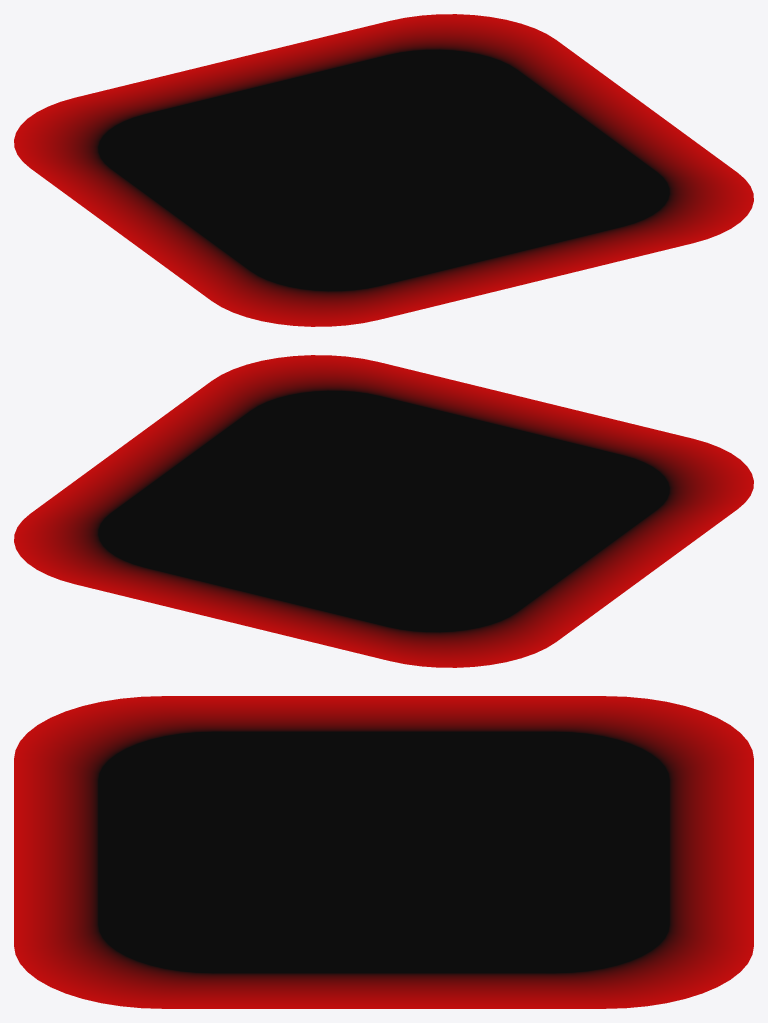
Rendered from SM_Onboarding_Scene_01.fbx.
The picture shows the model from 3 angles, top to bottom: view 1: azimuth 30°, elevation 25°; view 2: azimuth 150°, elevation 25°; view 3: azimuth 270°, elevation 25°; orthographic projection. The views are drawn at different scales.
Visible parts, largest first — view 1: SM_Onboarding_Scene_01; view 2: SM_Onboarding_Scene_01; view 3: SM_Onboarding_Scene_01.
Part boxes in pixels (box(x1,y1,x2,y2)): SM_Onboarding_Scene_01: box(14, 14, 753, 326); SM_Onboarding_Scene_01: box(14, 355, 753, 667); SM_Onboarding_Scene_01: box(14, 696, 753, 1008).
Bounding box in the file's own units: 35.06 × 0 × 35.06.
